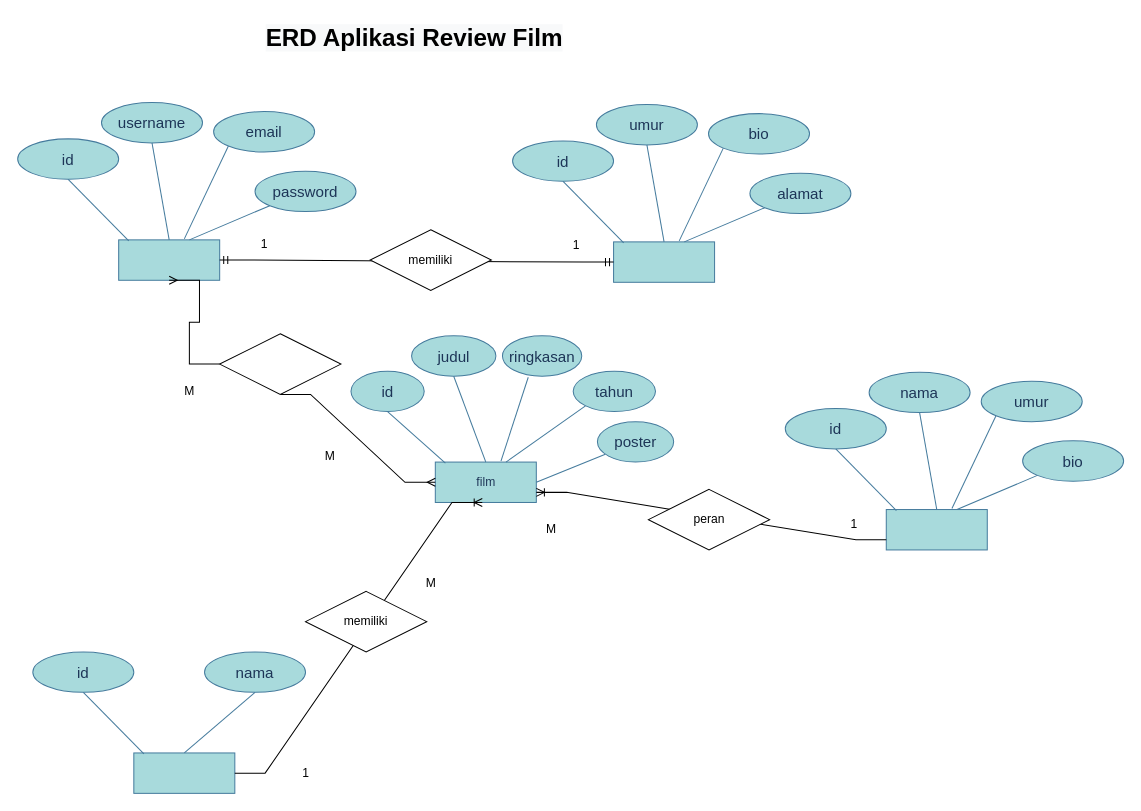
Image size: 1141x811. Some labels were removed from this diagram. Each missing label, with the centre of its shape:
cast: the point at 936,529
genre: the point at 184,772
memberi ulasan: the point at 280,363
profil: the point at 664,261
user: the point at 169,259
